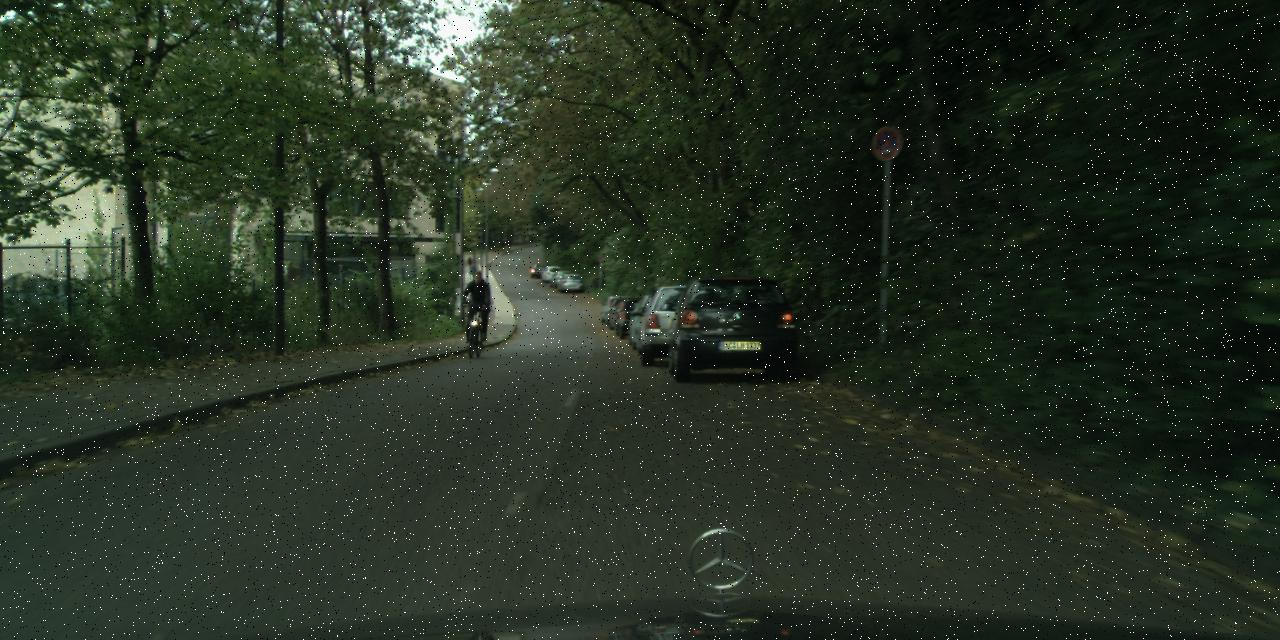ped: (462, 270, 490, 340)
